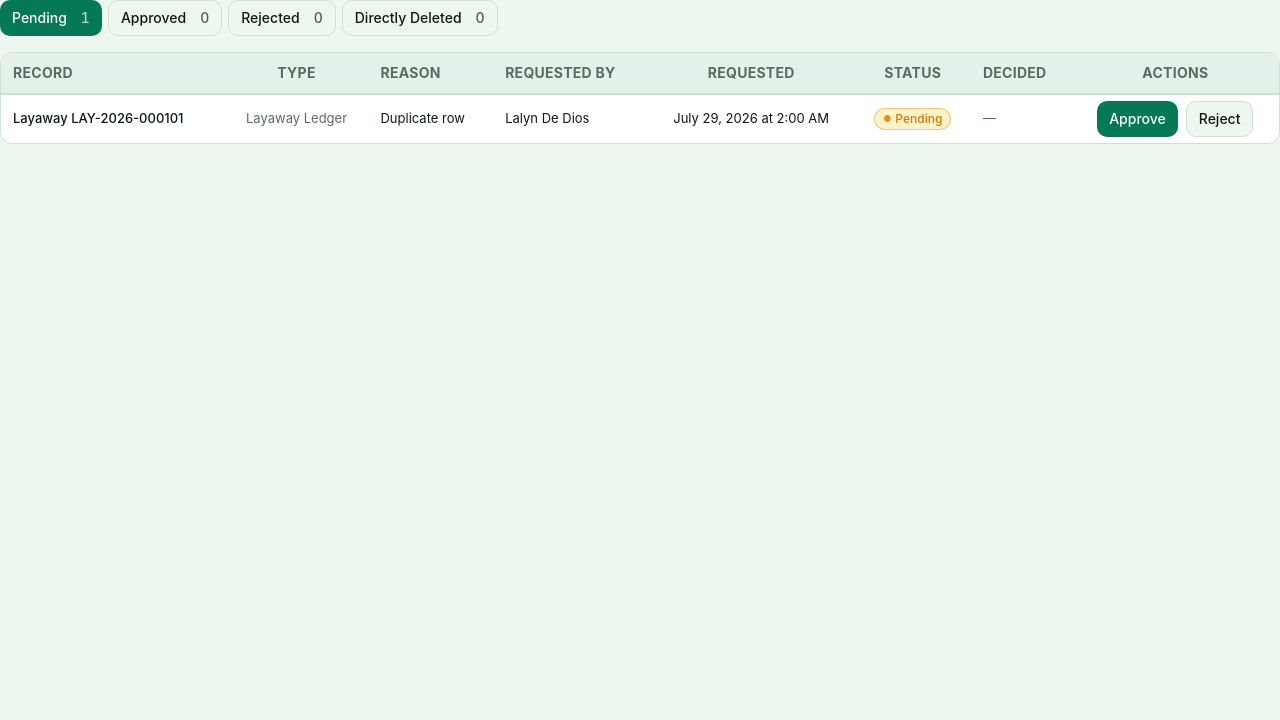
Test: Deletion Requests — who may decide › confirms before approving, and names the record and the requester
The image size is (1280, 720).
Click the button "Approve" at {"x": 1138, "y": 118}, box [1097, 100, 1178, 136]
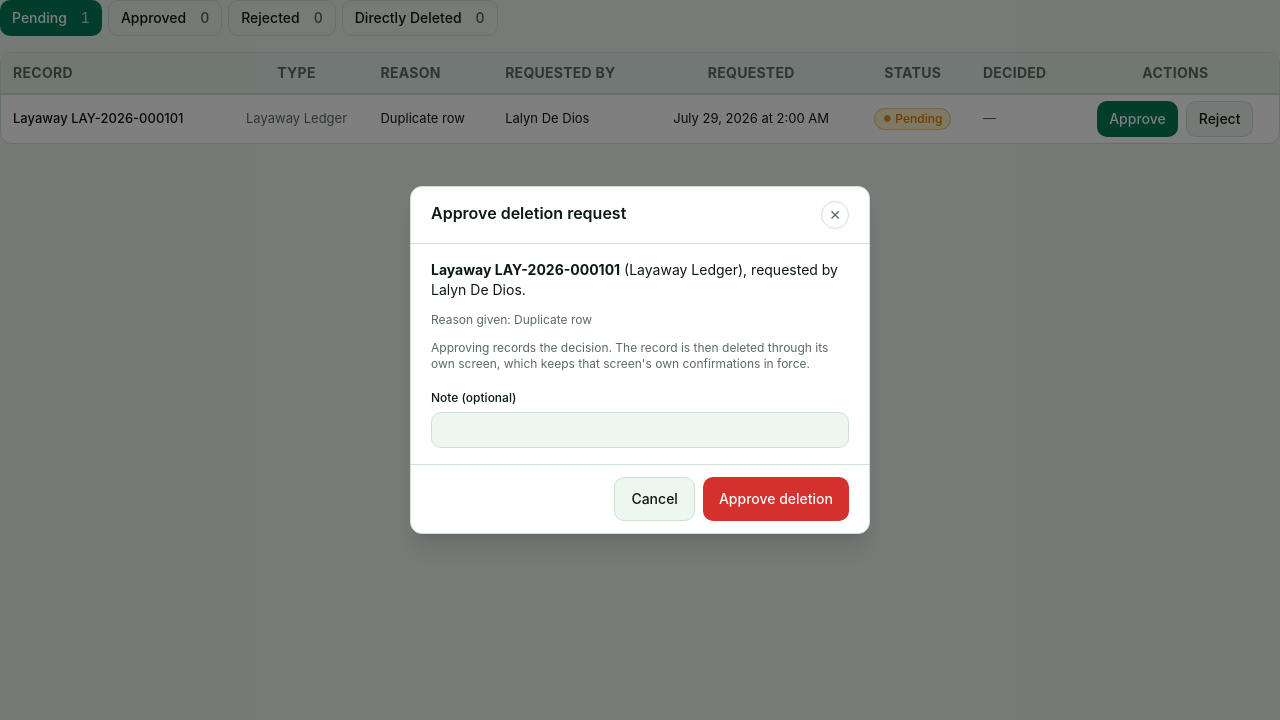
Expected: the button with test id "deletion-decide-confirm" is shown, [703, 477, 849, 521]
Expected: the dialog shows "Layaway LAY-2026-000101", [431, 261, 620, 278]
Expected: the dialog shows "Lalyn De Dios", [431, 281, 522, 298]
